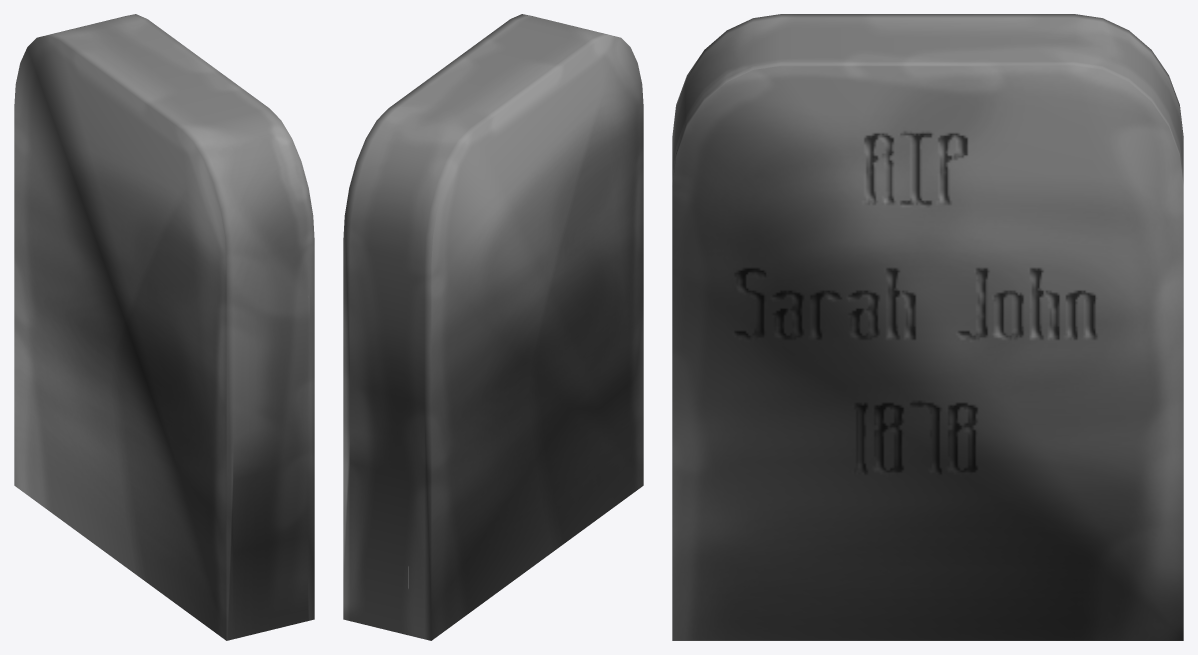
Rendered from tombstone.fbx.
3 views of the same model, side by side, from view 1: azimuth 30°, elevation 25°; view 2: azimuth 150°, elevation 25°; view 3: azimuth 270°, elevation 25° (orthographic). The views are drawn at different scales.
Visible parts, largest first — view 1: Cube; view 2: Cube; view 3: Cube.
Part boxes in pixels (left/top/right/bottom): Cube: left=14, top=14, right=314, bottom=640; Cube: left=343, top=14, right=643, bottom=640; Cube: left=672, top=14, right=1183, bottom=640.
Bounding box in the file's own units: 62.87 × 15.07 × 78.05.
Materials: 1 (1 with a texture image).
